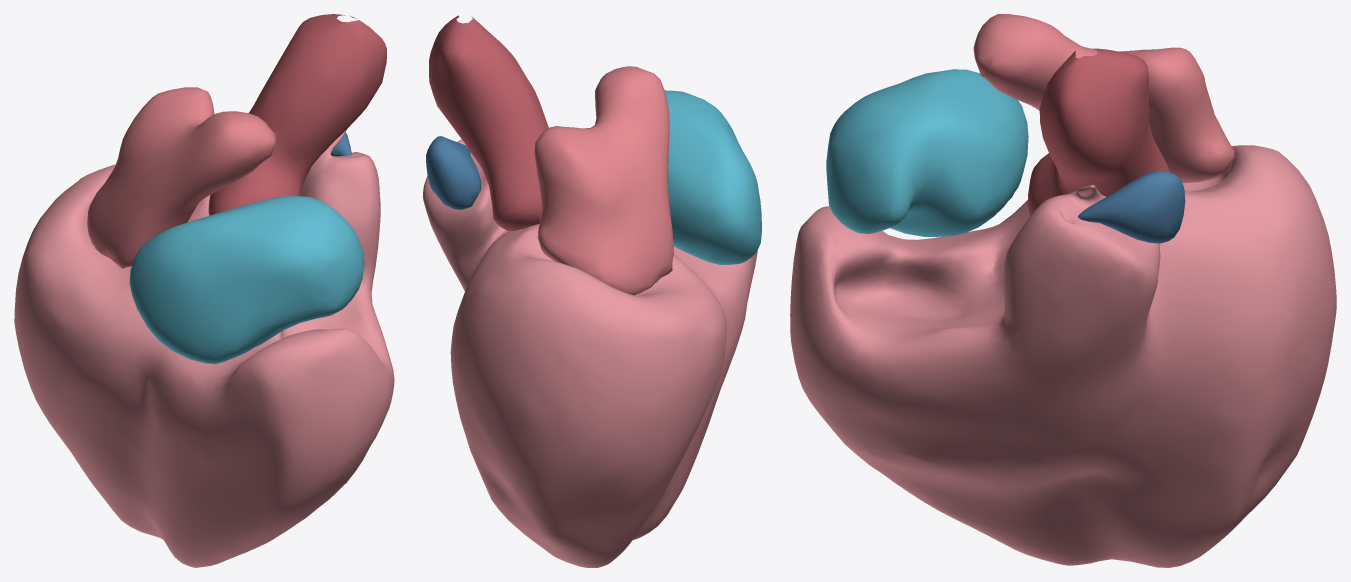
File: frame_15.glb
The picture shows the model from 3 angles, left to right: view 1: azimuth 30°, elevation 25°; view 2: azimuth 150°, elevation 25°; view 3: azimuth 270°, elevation 25°; orthographic projection. The views are drawn at different scales.
Parts seen in each view (by area): view 1: Renderer Node; view 2: Renderer Node; view 3: Renderer Node.
Boxes of the visible parts, x1,y1,x2,y2 form: Renderer Node: (14,14,394,567); Renderer Node: (423,15,761,567); Renderer Node: (790,14,1336,567).
Bounding box in the file's own units: 107 × 163 × 133.
